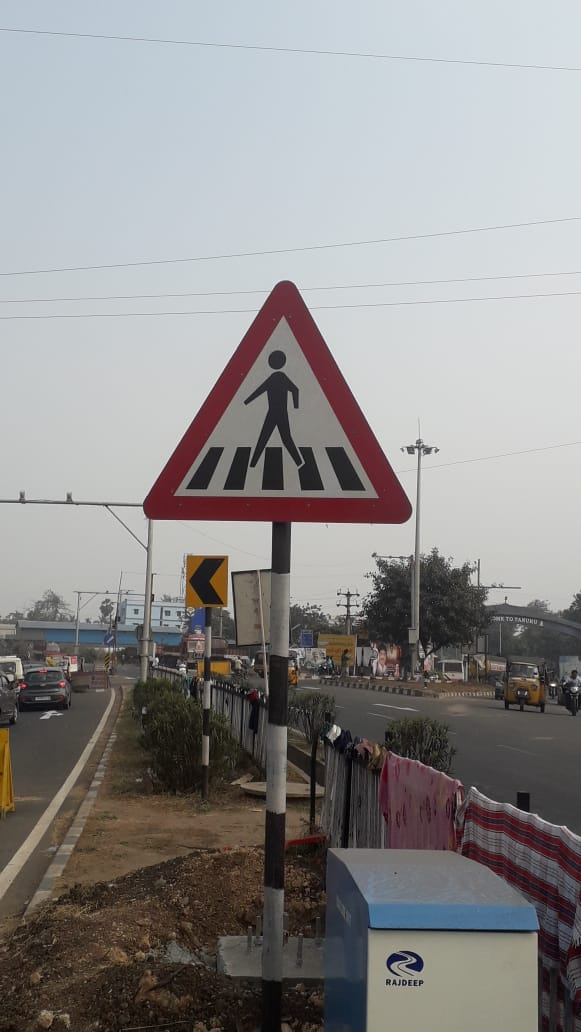pedestrian crossing: (137, 273, 425, 548)
